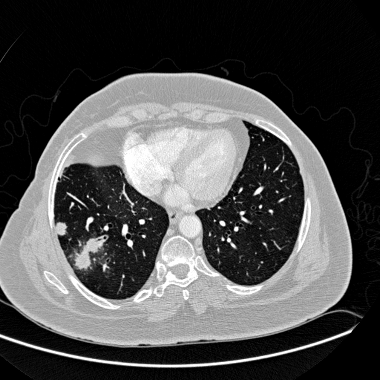nodule: (55, 223, 67, 235)
